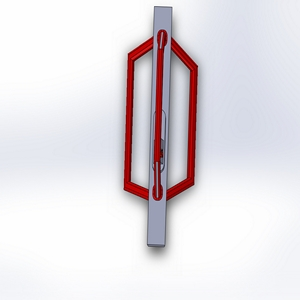submarine: (106, 1, 213, 278)
